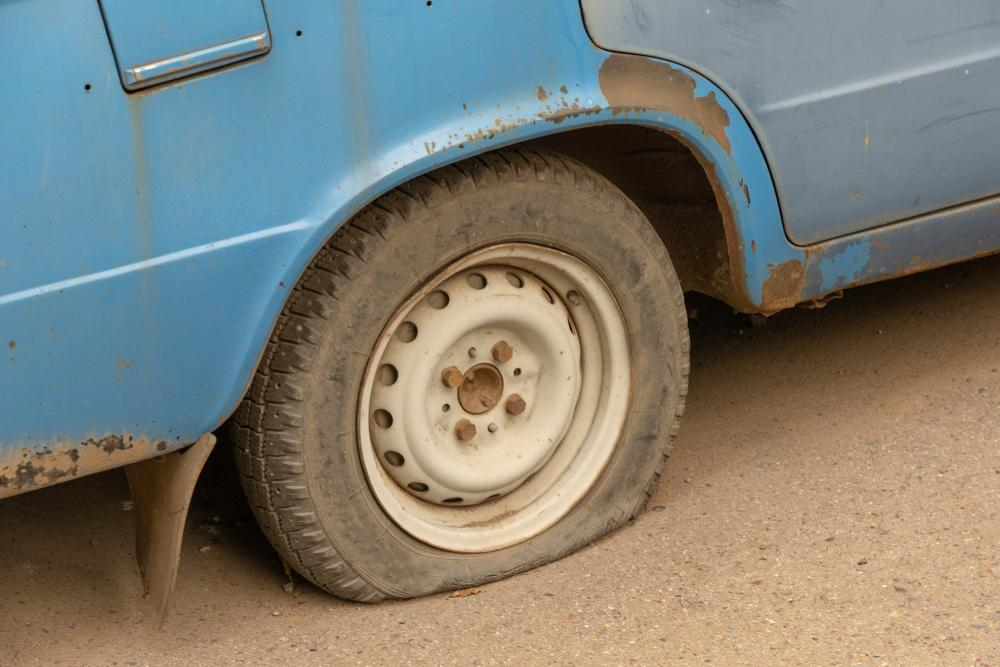tire flat: (237, 148, 690, 602)
